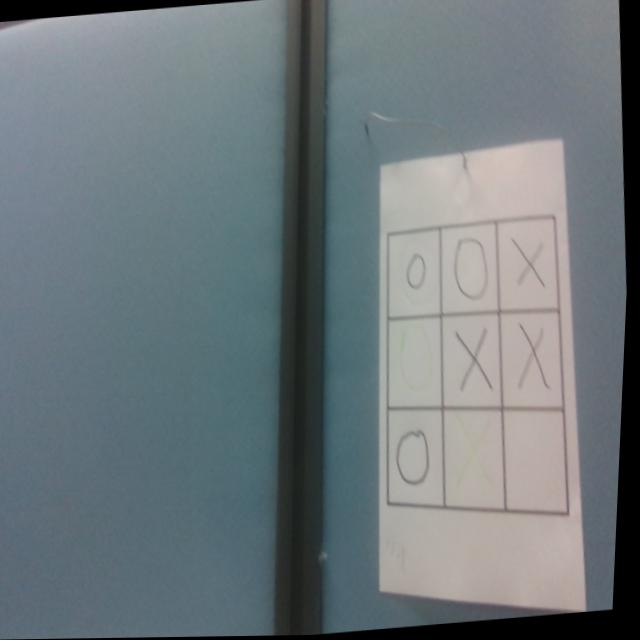null: (504, 407, 576, 519)
o: (386, 315, 450, 414), (448, 235, 494, 304), (396, 428, 436, 488), (406, 252, 432, 292)
table: (373, 210, 583, 532)
x: (443, 406, 514, 516), (456, 326, 499, 396), (517, 318, 554, 392), (508, 230, 548, 289)
